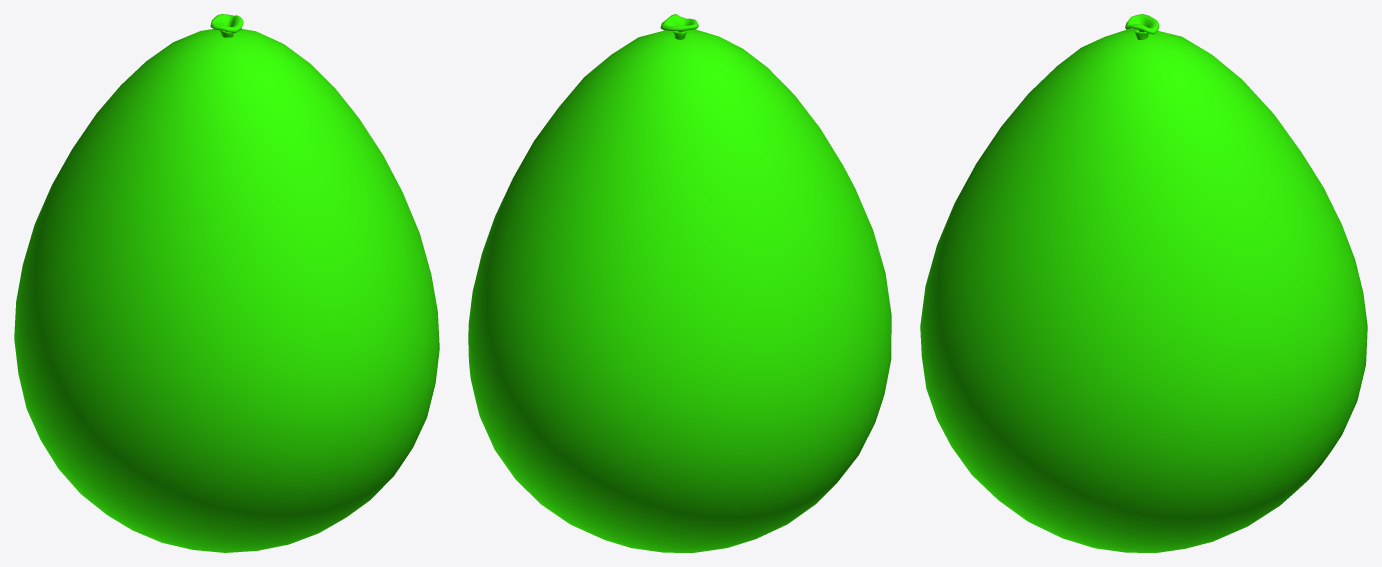
Rendered from ballon-stripped-centered-green.obj.
3 renders of one model, left to right at view 1: azimuth 30°, elevation 25°; view 2: azimuth 150°, elevation 25°; view 3: azimuth 270°, elevation 25°, orthographic.
Visible parts, largest first — view 1: GeoSphere01, Line01; view 2: GeoSphere01, Line01; view 3: GeoSphere01, Line01.
Boxes of the visible parts, left/top/right/bottom form: GeoSphere01: left=14, top=28, right=439, bottom=552; Line01: left=210, top=14, right=243, bottom=37; GeoSphere01: left=468, top=29, right=891, bottom=552; Line01: left=660, top=14, right=698, bottom=39; GeoSphere01: left=920, top=29, right=1367, bottom=552; Line01: left=1125, top=14, right=1159, bottom=39.
Bounding box in the file's own units: 98.45 × 133 × 105.
